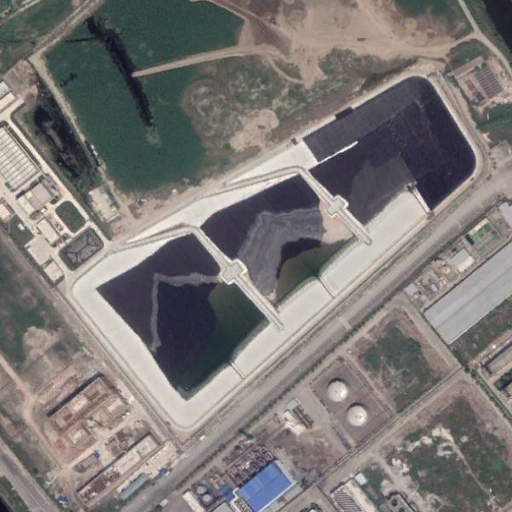lf: (71, 75, 483, 405)
